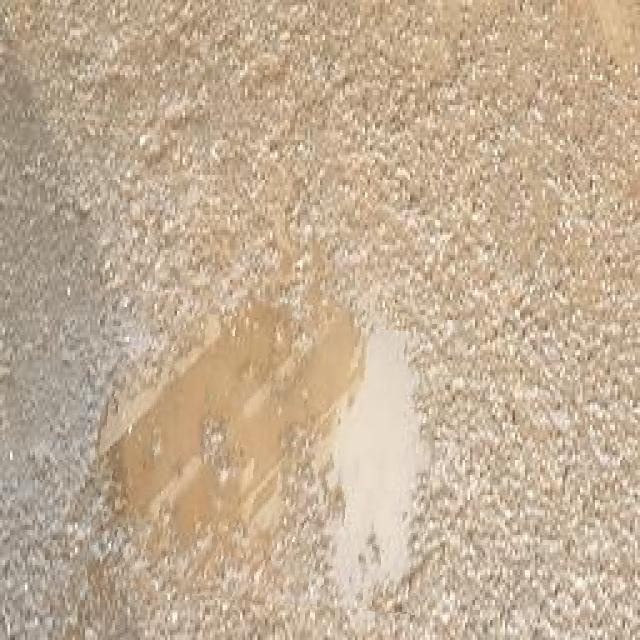puddle: (93, 296, 439, 610)
